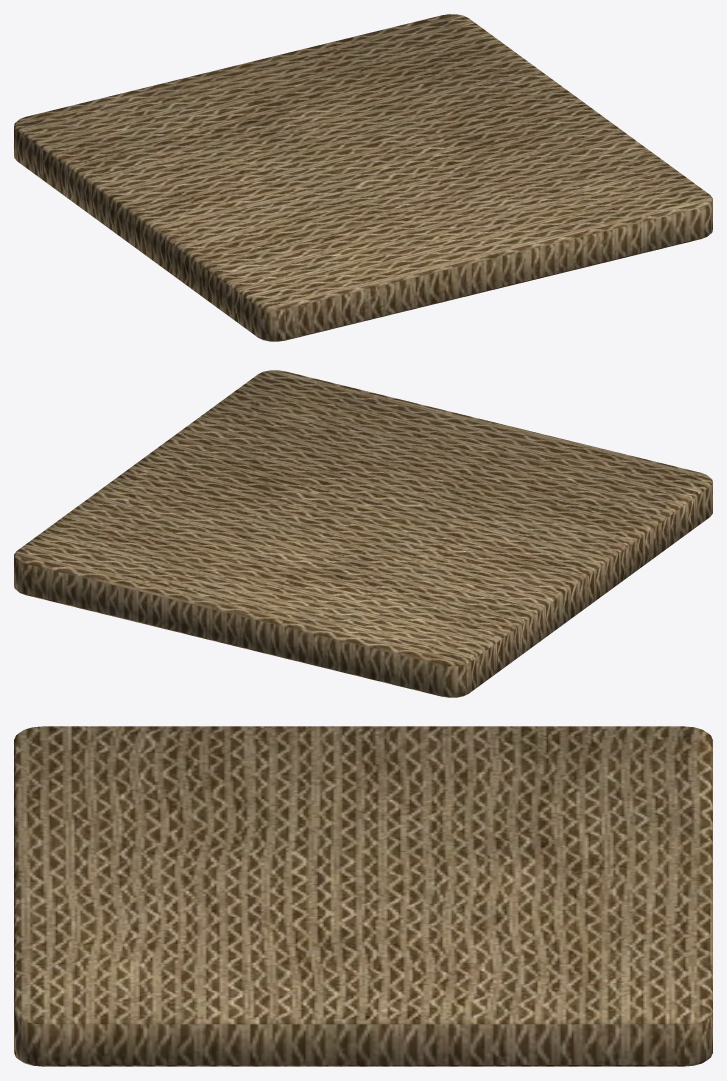
Rendered from WoodenPlatform_01.fbx.
The picture shows the model from 3 angles, top to bottom: view 1: azimuth 30°, elevation 25°; view 2: azimuth 150°, elevation 25°; view 3: azimuth 270°, elevation 25°; orthographic projection. The views are drawn at different scales.
Visible parts, largest first — view 1: WoodenPlatform_01; view 2: WoodenPlatform_01; view 3: WoodenPlatform_01.
Boxes of the visible parts, left/top/right/bottom form: WoodenPlatform_01: left=14, top=14, right=712, bottom=341; WoodenPlatform_01: left=14, top=370, right=712, bottom=697; WoodenPlatform_01: left=14, top=726, right=712, bottom=1066.
Size of the model in its own units: 1802 by 131 by 1795.
Materials: 1 (1 with a texture image).
